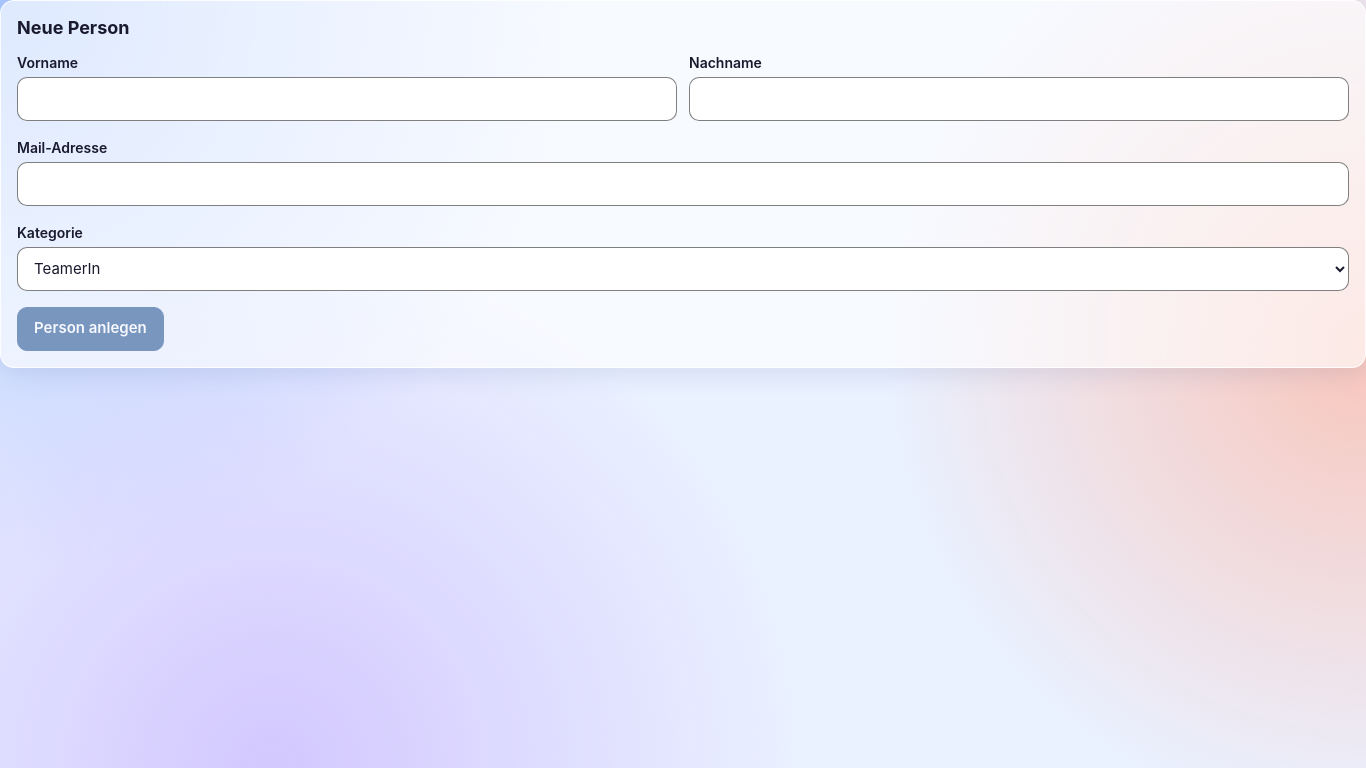
Test: PersonAnlegen › der Knopf ist gesperrt, bis Vor-, Nachname und eine Mail-Adresse da sind
The width and height of the screenshot is (1366, 768).
Check: the button "Person anlegen" is disabled, box left=17, top=306, right=164, bottom=350
Step 1. Type "Anna" into the field labelled "Vorname" → (347, 98), box left=17, top=76, right=677, bottom=120
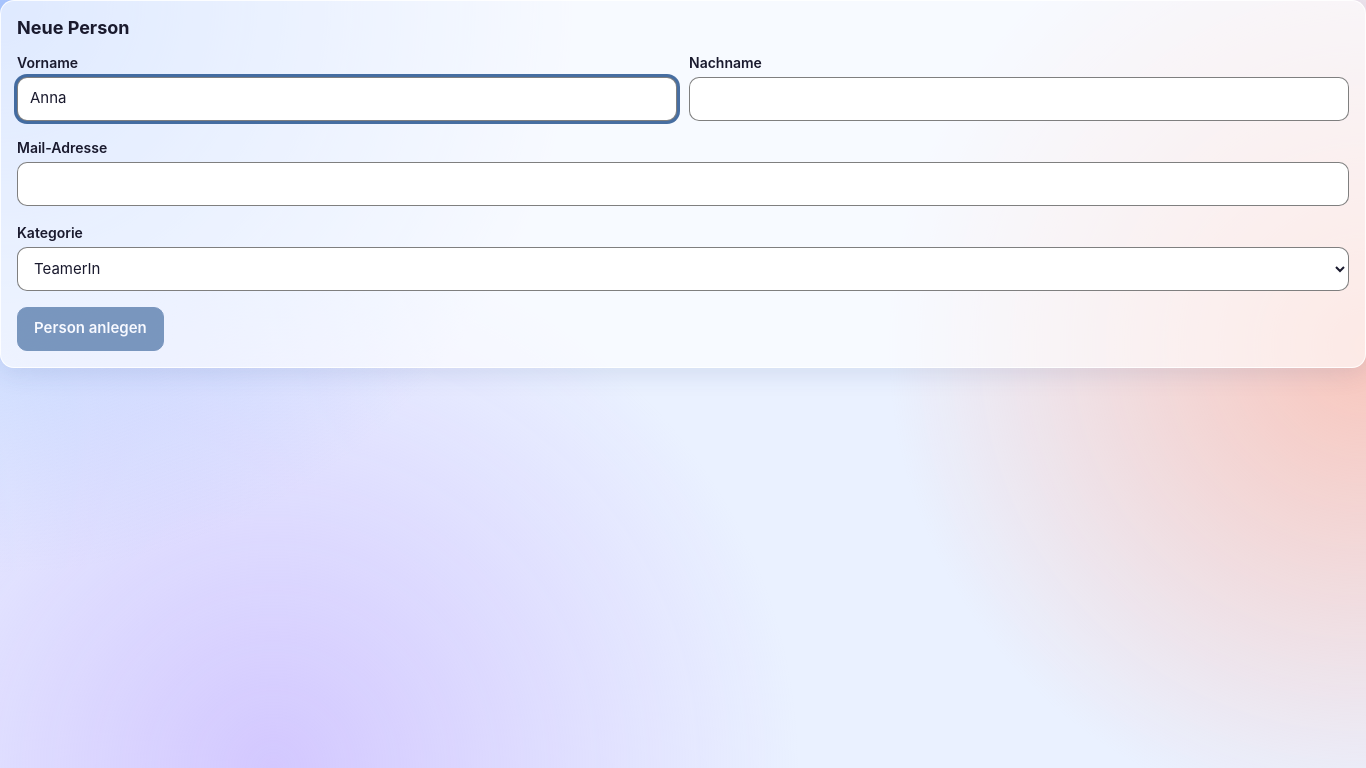
Step 2. Type "Adler" into the field labelled "Nachname" → (1019, 98), box left=689, top=76, right=1349, bottom=120
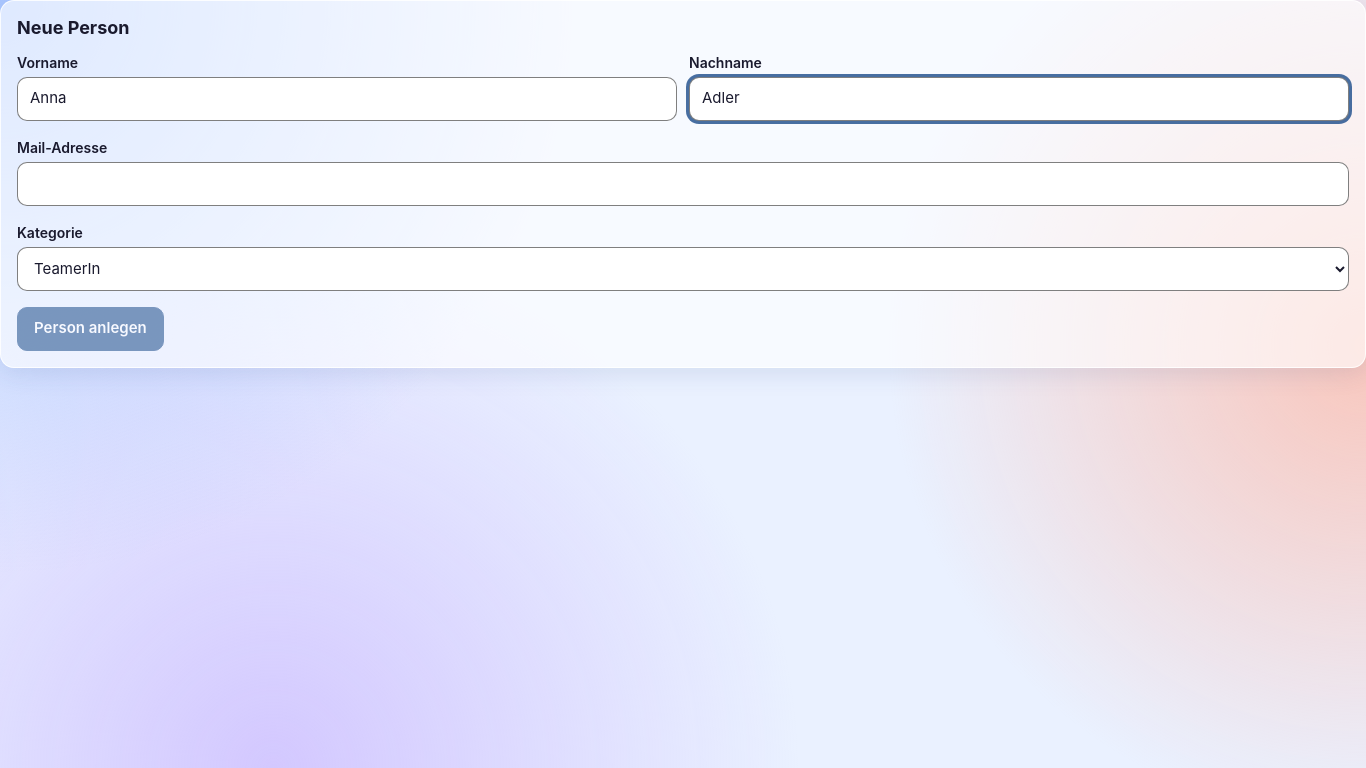
Step 3. Type "anna" into the field labelled "Mail-Adresse" → (683, 184), box left=17, top=162, right=1349, bottom=206
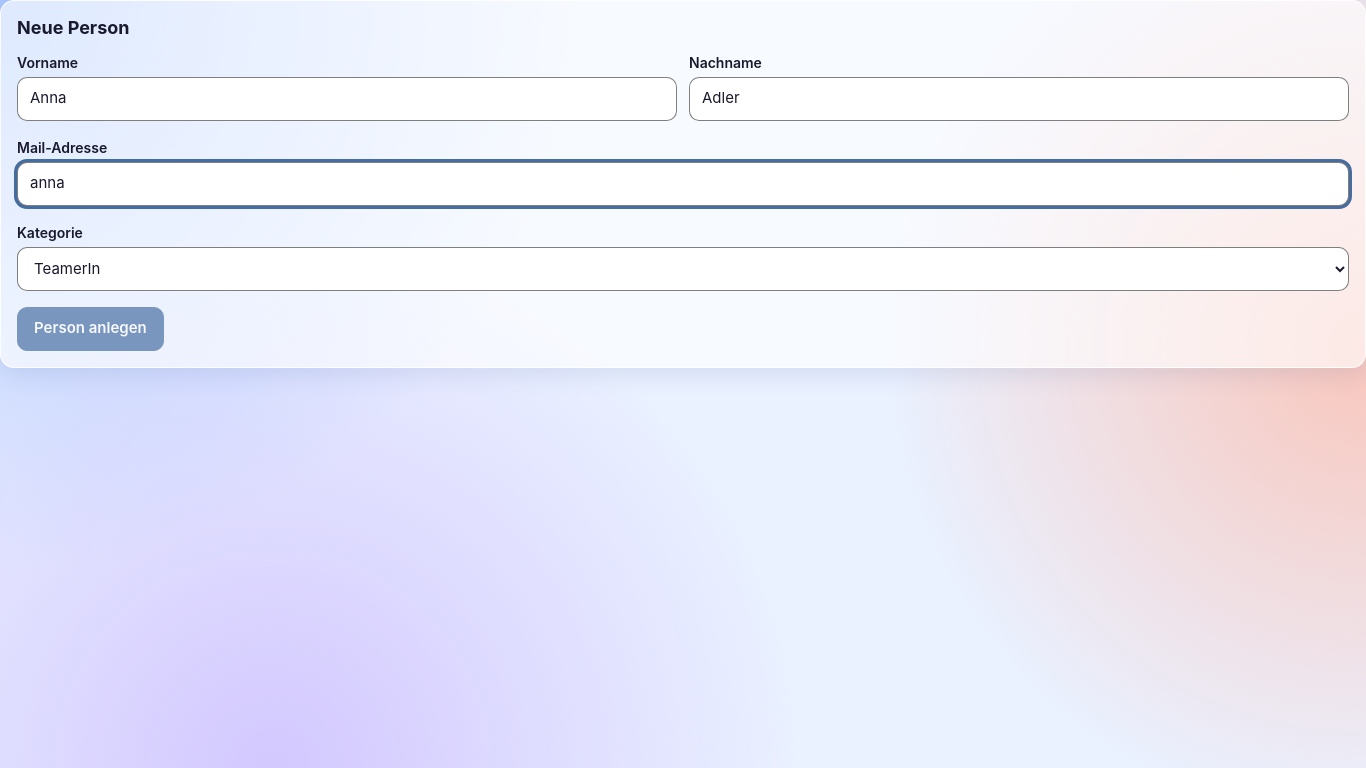
Check: the button "Person anlegen" is disabled, box left=17, top=306, right=164, bottom=350
Step 4. Type "@kijub.example" into the field labelled "Mail-Adresse" → (683, 184), box left=17, top=162, right=1349, bottom=206
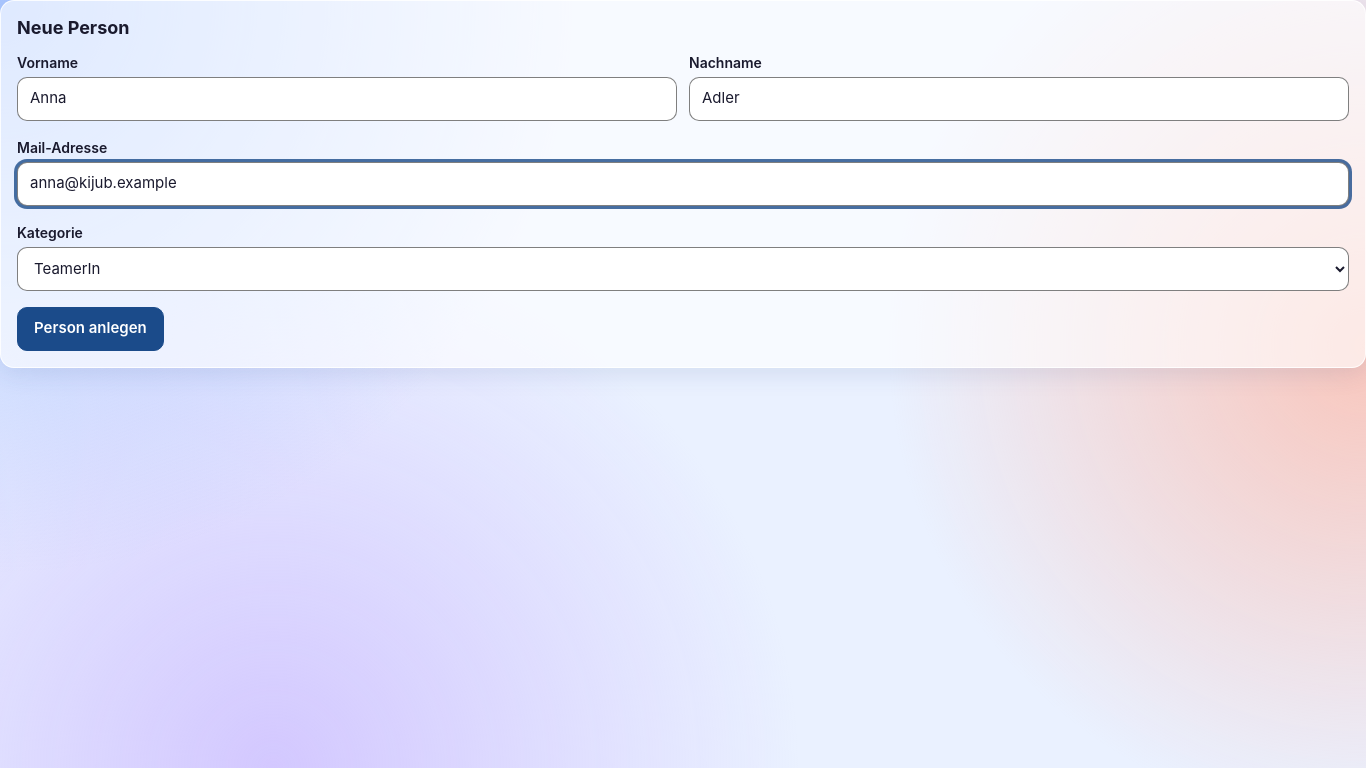
Check: the button "Person anlegen" is enabled, box left=17, top=306, right=164, bottom=350
